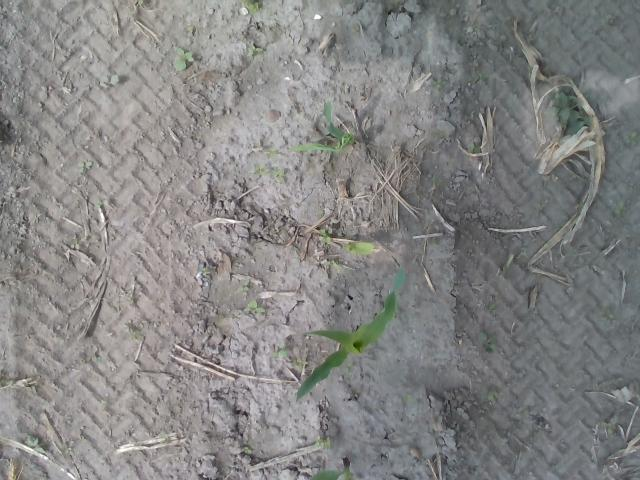Maize: (295, 288, 400, 404), (290, 95, 354, 156), (306, 454, 354, 480), (342, 241, 377, 257)
Weeds: (544, 88, 594, 138), (248, 162, 286, 183), (173, 46, 194, 70), (479, 328, 498, 354), (24, 435, 46, 454), (244, 300, 269, 316), (240, 0, 262, 15), (498, 255, 516, 273), (314, 435, 332, 450), (245, 42, 262, 57), (317, 228, 332, 244), (464, 144, 480, 158), (612, 200, 624, 217), (601, 306, 615, 320), (432, 77, 446, 90), (272, 348, 288, 359), (129, 330, 143, 342), (626, 130, 638, 144), (482, 302, 496, 314), (294, 359, 308, 370), (486, 390, 498, 401), (78, 160, 86, 175), (327, 258, 338, 268), (265, 148, 278, 156), (242, 446, 255, 454), (238, 286, 250, 294)
